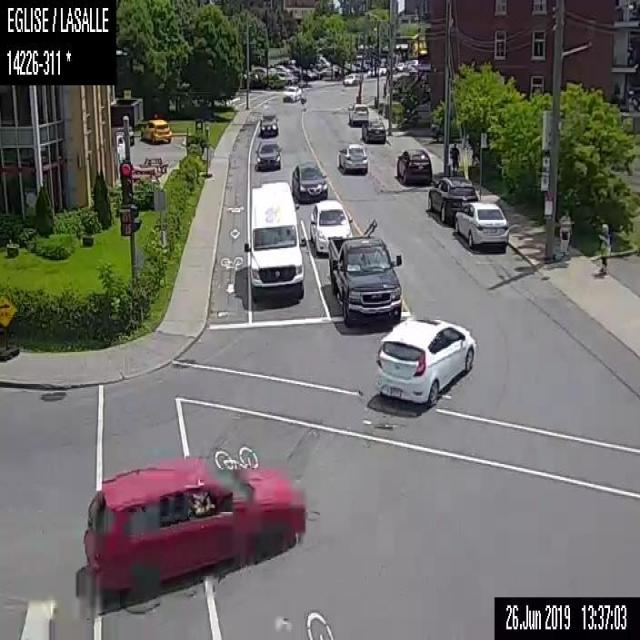pedestrian: (594, 223, 611, 277), (558, 209, 574, 256), (449, 143, 459, 174)
vehicle: (82, 456, 306, 597), (375, 314, 475, 406), (327, 218, 402, 327), (243, 177, 307, 300), (454, 200, 508, 251), (426, 175, 478, 225), (310, 198, 352, 255), (290, 160, 328, 200), (396, 146, 432, 184), (334, 140, 368, 173), (140, 116, 172, 144), (253, 140, 281, 171), (360, 116, 386, 144), (259, 108, 279, 137), (347, 102, 368, 126), (282, 84, 300, 101), (342, 71, 360, 85), (275, 70, 297, 81), (320, 65, 339, 76)
